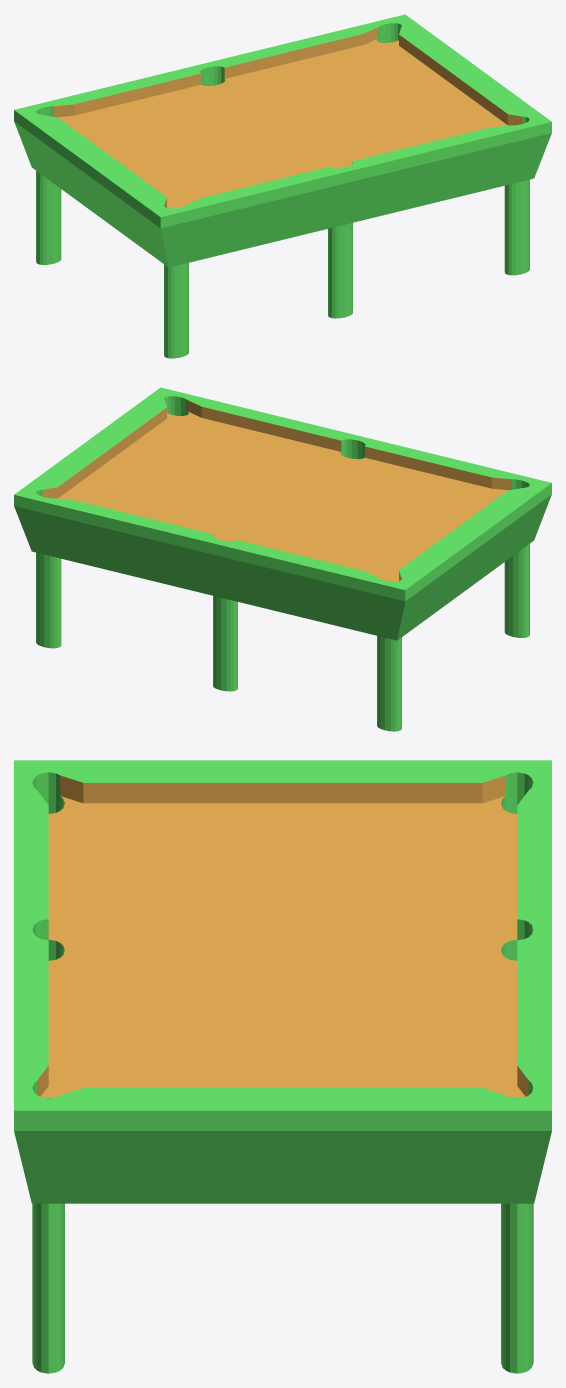
The model's file is poolTableInvertSkin.fbx.
3 renders of one model, top to bottom at view 1: azimuth 30°, elevation 25°; view 2: azimuth 150°, elevation 25°; view 3: azimuth 270°, elevation 25°, orthographic. The views are drawn at different scales.
Visible parts, largest first — view 1: Plane; view 2: Plane; view 3: Plane.
Part boxes in pixels (left/top/right/bottom): Plane: left=14, top=14, right=551, bottom=358; Plane: left=14, top=387, right=551, bottom=731; Plane: left=14, top=760, right=551, bottom=1373.
Bounding box in the file's own units: 1180 × 432 × 766.
